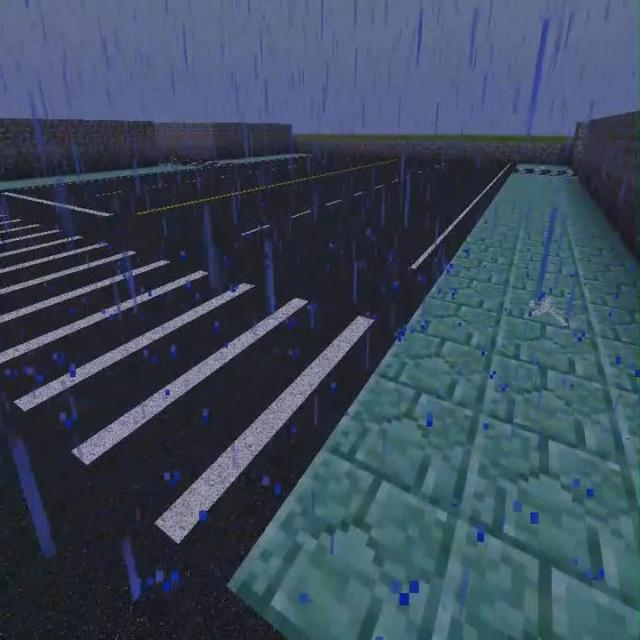8: (0, 210, 395, 580), (168, 160, 238, 168), (513, 170, 574, 176)
crosswalk: (0, 158, 512, 323), (2, 400, 278, 639)
road: (227, 173, 639, 639), (0, 163, 203, 191), (216, 155, 311, 162), (516, 163, 572, 170)
